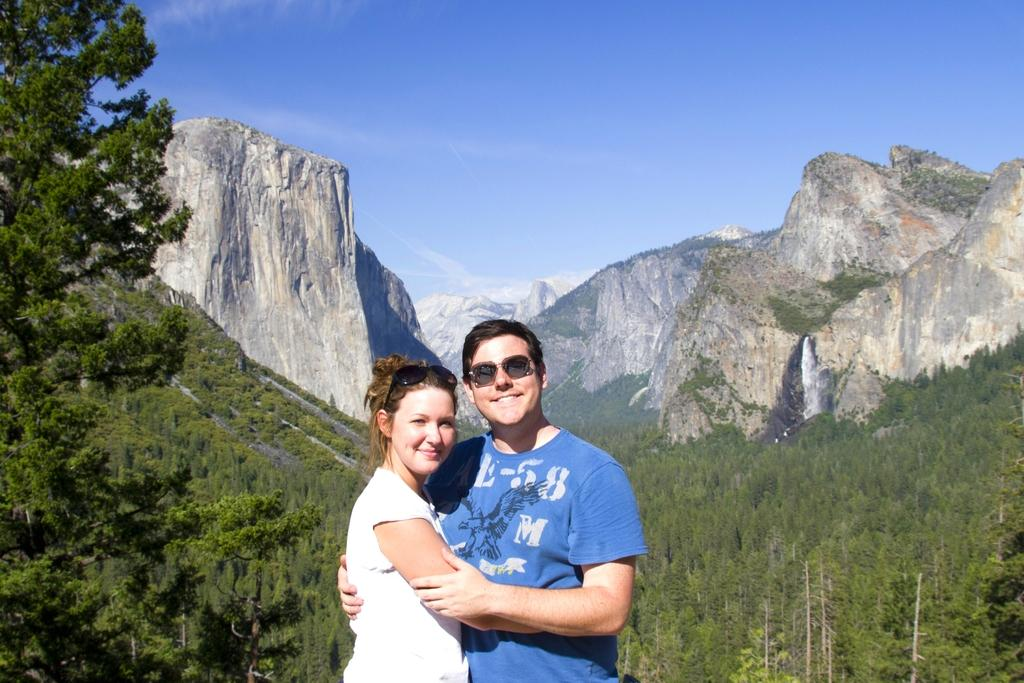Sem Máscara: (472, 334, 541, 420), (391, 384, 455, 474)
